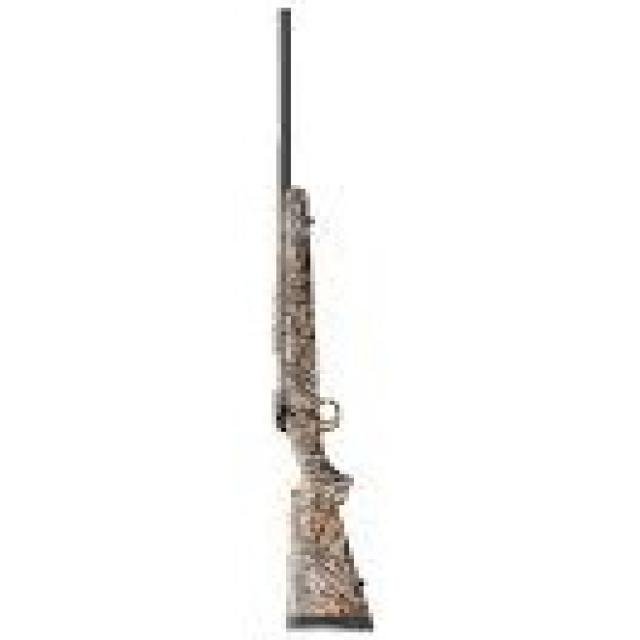rifle: (247, 1, 404, 640)
